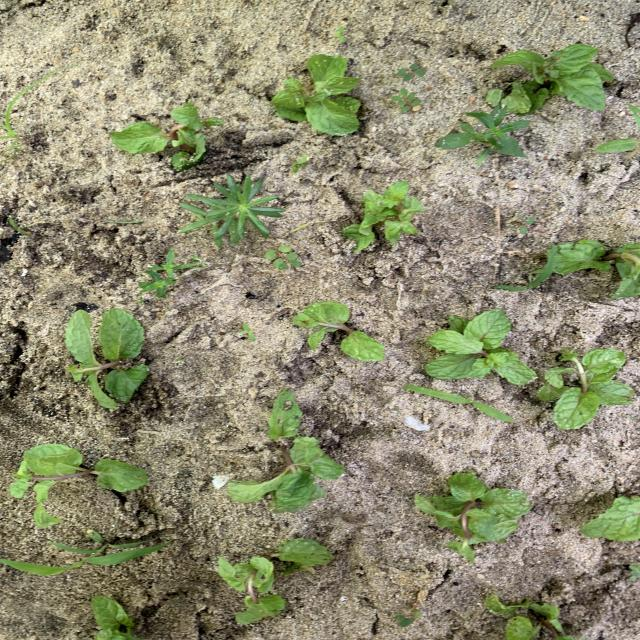crop: (228, 390, 344, 511), (11, 444, 147, 526), (415, 471, 531, 561), (218, 539, 331, 623), (486, 43, 613, 114), (426, 310, 535, 383), (66, 309, 147, 407), (538, 349, 634, 428), (111, 102, 222, 169), (272, 54, 360, 134), (535, 240, 639, 297), (343, 182, 423, 249), (294, 302, 383, 359), (486, 595, 576, 639), (581, 497, 639, 540), (93, 596, 145, 639)
weed: (0, 530, 171, 576), (180, 174, 284, 249), (436, 104, 529, 164), (0, 65, 72, 140), (405, 386, 512, 422), (148, 249, 199, 278), (595, 136, 639, 163), (138, 269, 175, 297), (266, 244, 300, 269), (392, 88, 420, 111), (397, 63, 426, 79), (514, 213, 535, 233), (395, 610, 419, 627), (9, 217, 30, 235), (286, 222, 312, 234), (239, 323, 255, 339), (292, 155, 307, 171), (628, 565, 639, 580), (335, 26, 345, 41)
